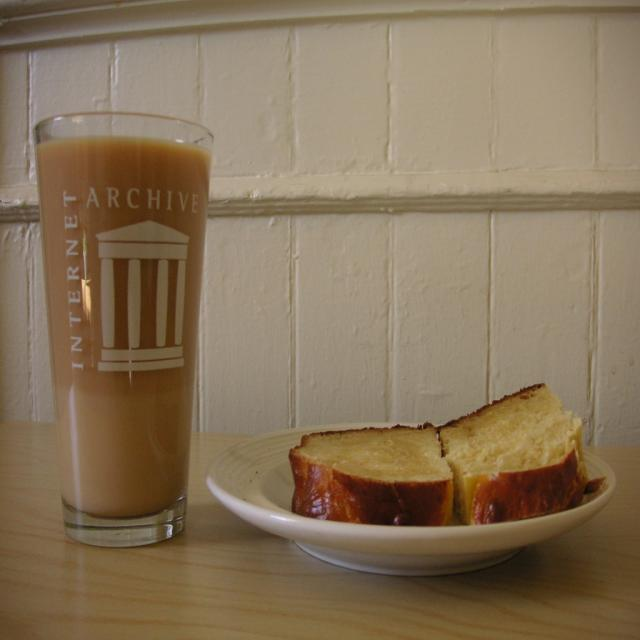Coffee: (37, 126, 208, 521)
Tea: (32, 135, 213, 519)
